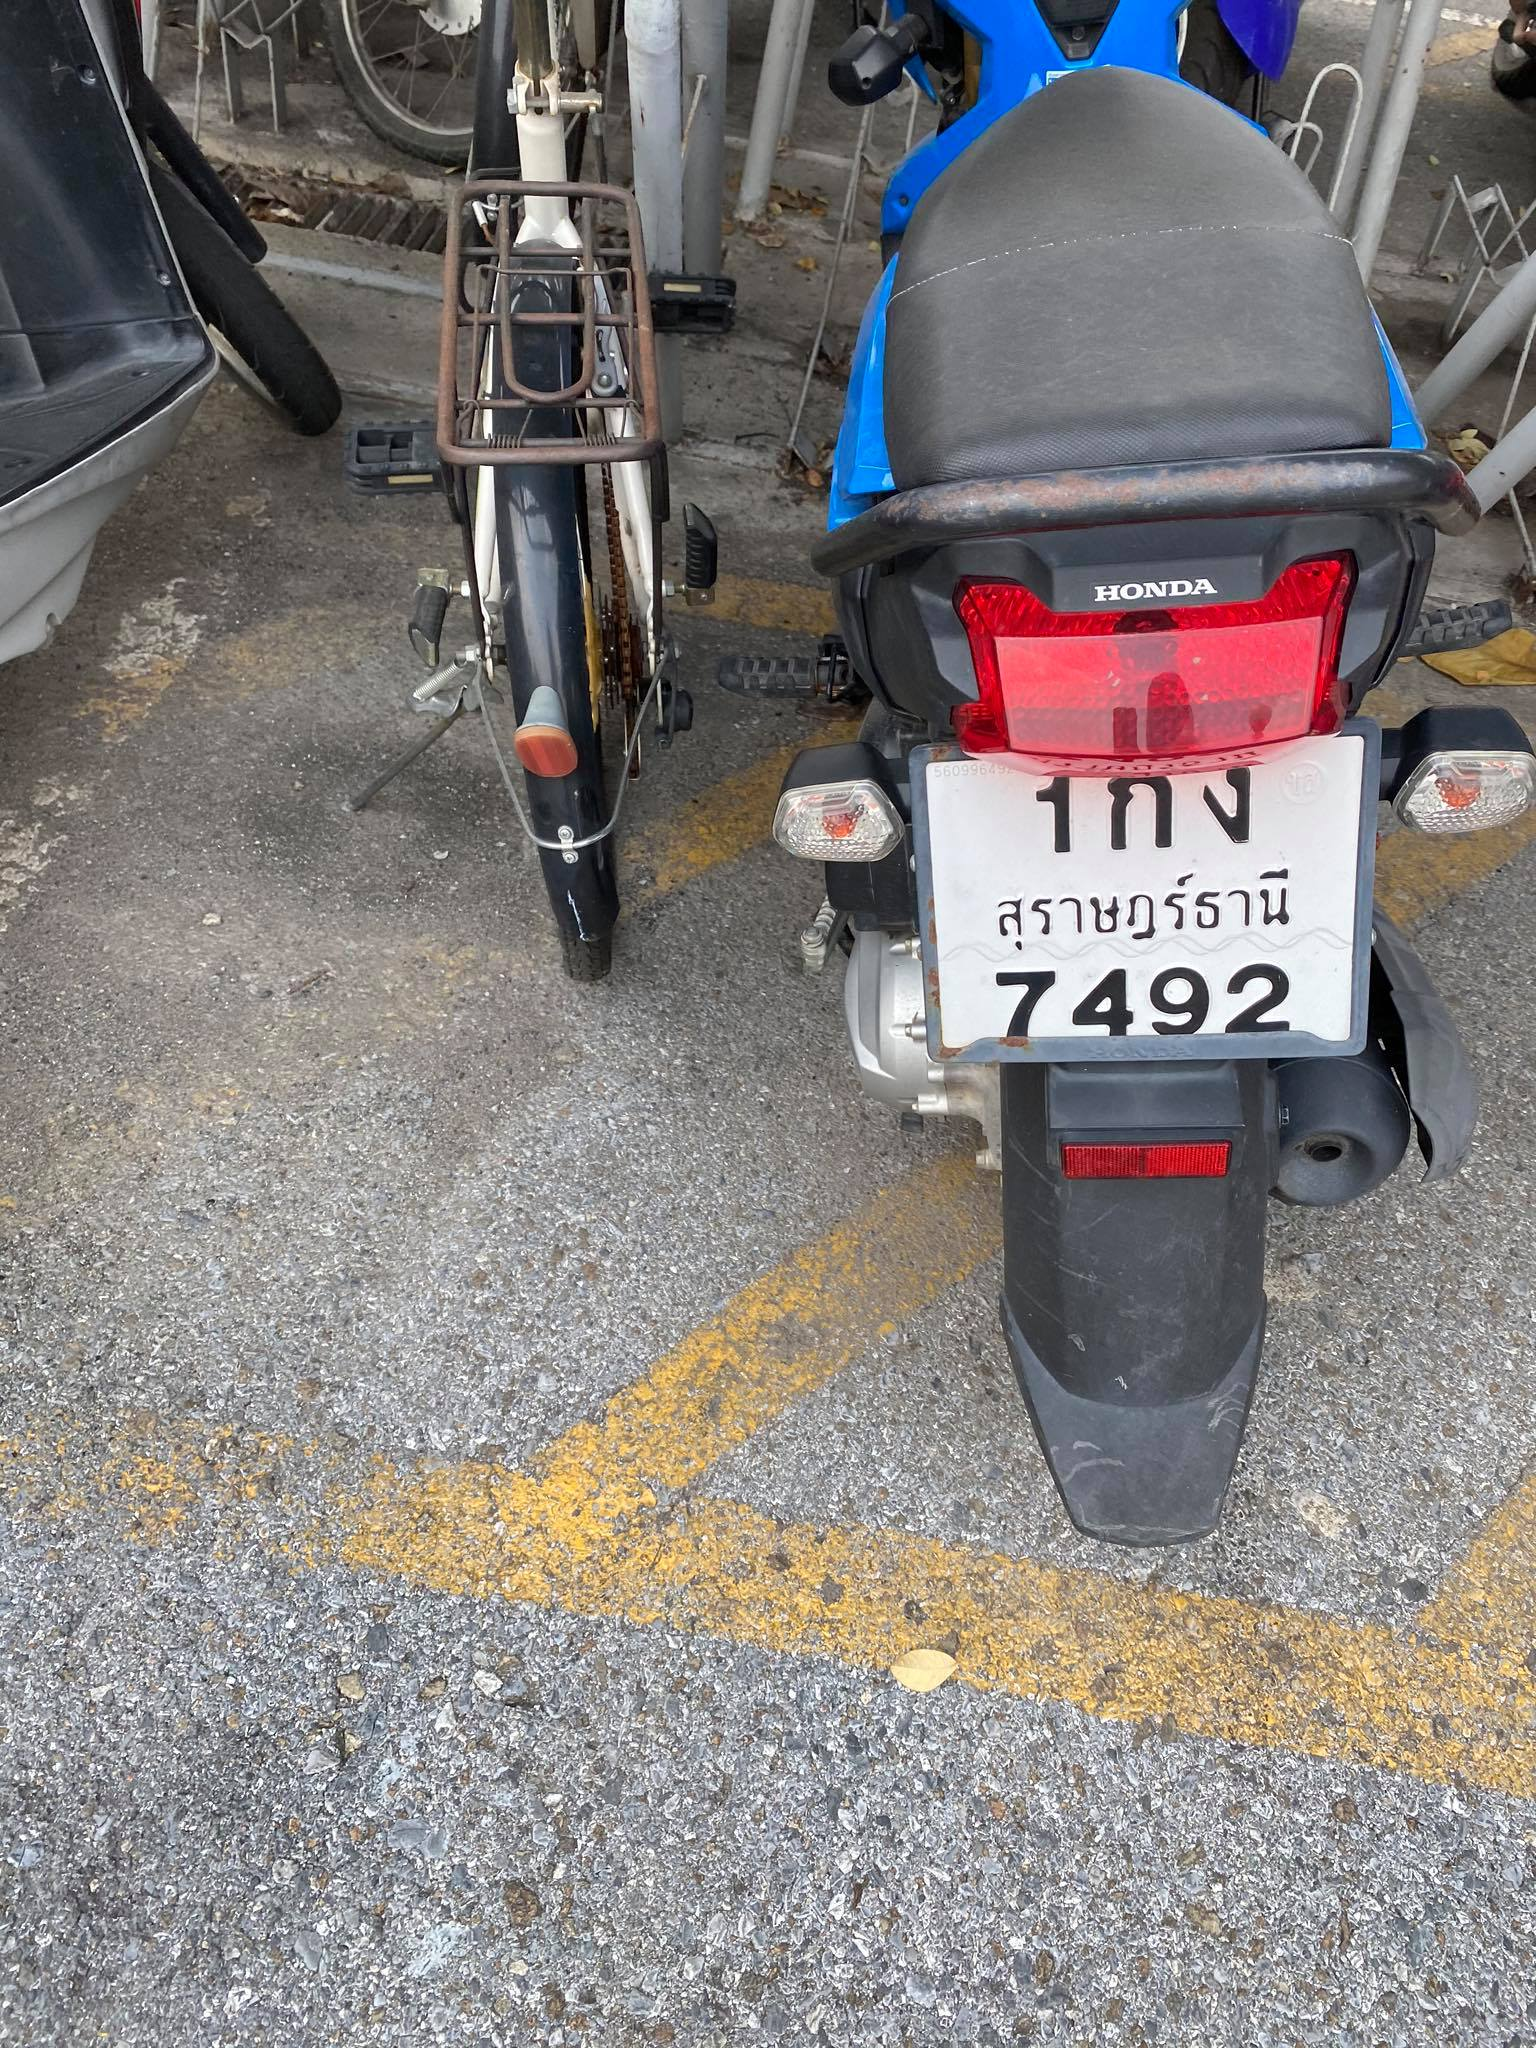line1: (1016, 777, 1260, 861)
line2: (970, 871, 1307, 958)
line3: (991, 955, 1304, 1055)
